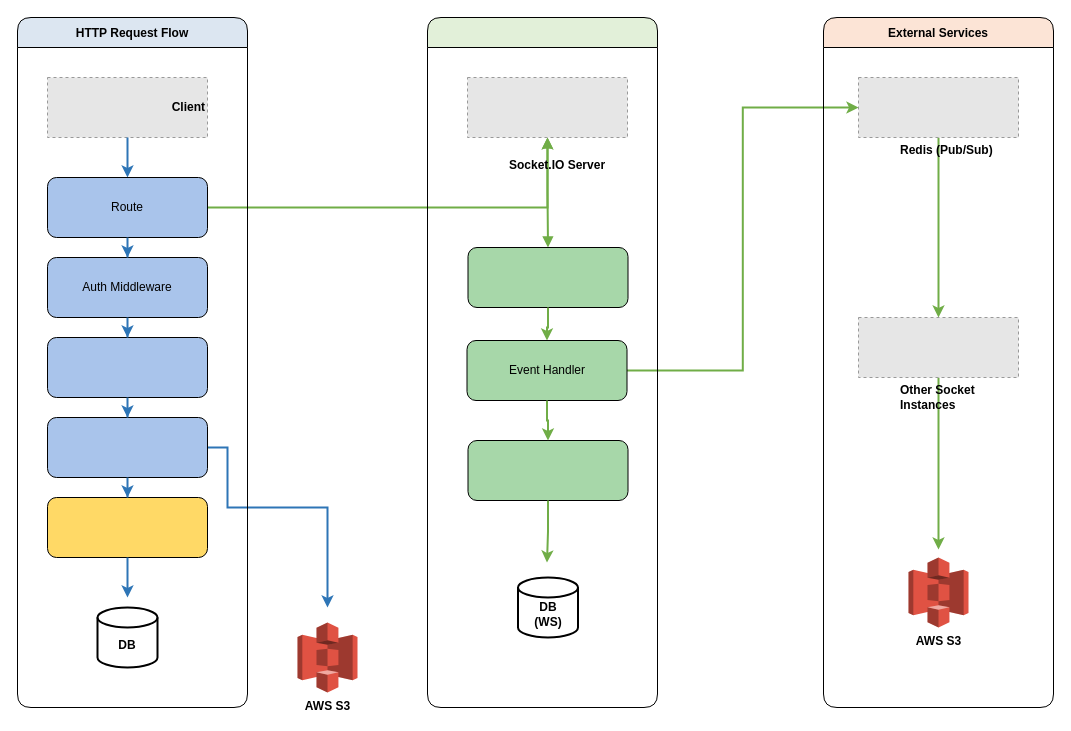
Some shapes in this 1071 by 731 pixel diagram are drawn without their labels. Grey dashed boxes stand in for pictures. The box of each missing label's shape, as (x1, y1, x2, y2) in pixels:
Auth Middleware (WS): (467, 246, 628, 308)
Controller: (46, 336, 208, 398)
Prisma ORM: (46, 496, 208, 558)
Service: (46, 416, 208, 478)
Service (WS): (467, 440, 628, 500)
WebSocket Flow: (426, 16, 658, 708)
